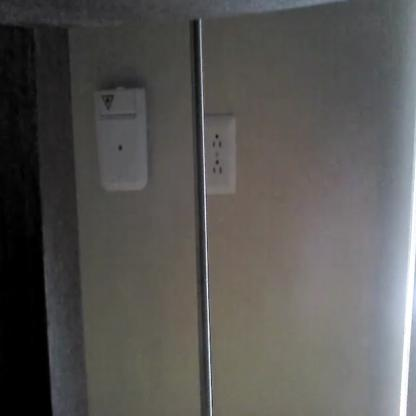OUTLET: (205, 114, 236, 196)
